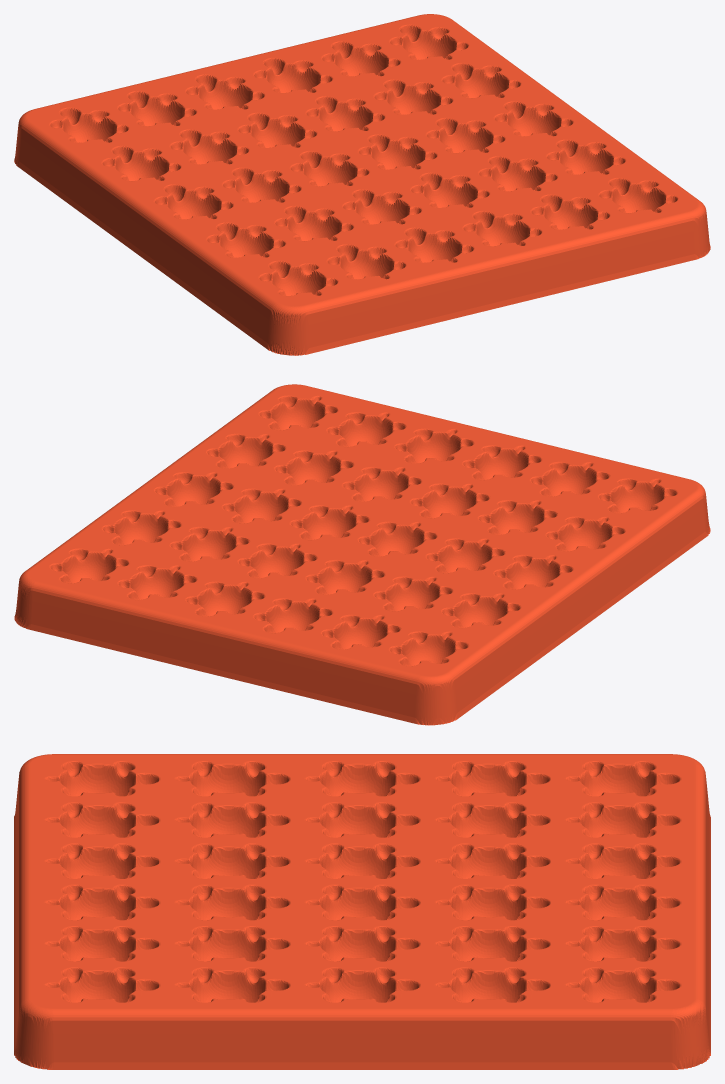
File: mold.glb
3 views of the same model, one above another, from view 1: azimuth 30°, elevation 25°; view 2: azimuth 150°, elevation 25°; view 3: azimuth 270°, elevation 25° (orthographic). The views are drawn at different scales.
Parts seen in each view (by area): view 1: geometry_0; view 2: geometry_0; view 3: geometry_0.
Boxes of the visible parts, <box> form: geometry_0: <box>14,14,710,355</box>; geometry_0: <box>14,384,710,725</box>; geometry_0: <box>14,754,710,1069</box>.
Size of the model in its own units: 0.1434 by 0.0136 by 0.1581.
